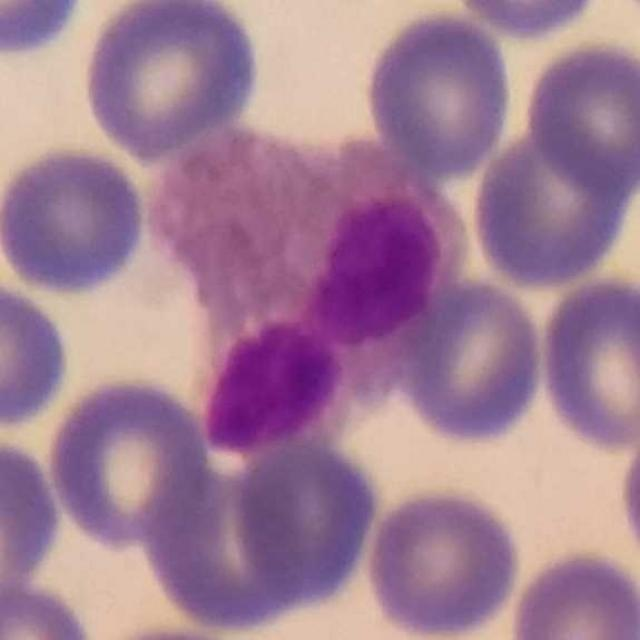Eosinophil: (145, 119, 465, 456)
RBC: (135, 448, 328, 636), (42, 372, 220, 553), (225, 435, 385, 619), (78, 0, 264, 158), (467, 126, 638, 290), (394, 274, 550, 448), (359, 6, 516, 178), (360, 484, 526, 640), (0, 141, 151, 298), (535, 272, 640, 453), (521, 37, 640, 196), (505, 545, 640, 640), (0, 273, 76, 433), (0, 431, 67, 609), (447, 0, 606, 42), (0, 577, 99, 640), (0, 0, 90, 61), (614, 411, 640, 583)
